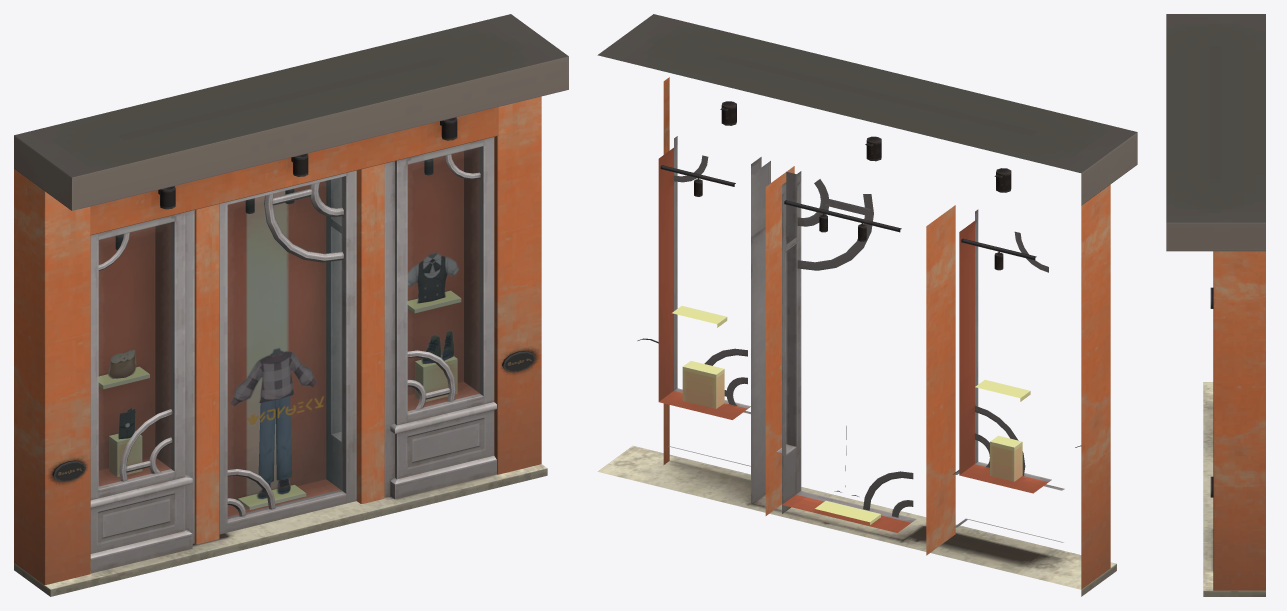
Rendered from t1_b_boutique2_d_wall.glb.
3 renders of one model, left to right at view 1: azimuth 30°, elevation 25°; view 2: azimuth 150°, elevation 25°; view 3: azimuth 270°, elevation 25°, orthographic. The views are drawn at different scales.
Visible parts, largest first — view 1: nomerge_t1_b_boutique2_d_wall_mesh; view 2: nomerge_t1_b_boutique2_d_wall_mesh; view 3: nomerge_t1_b_boutique2_d_wall_mesh.
Boxes of the visible parts, <box> form: nomerge_t1_b_boutique2_d_wall_mesh: <box>14,14,568,596</box>; nomerge_t1_b_boutique2_d_wall_mesh: <box>597,14,1137,596</box>; nomerge_t1_b_boutique2_d_wall_mesh: <box>1166,14,1265,596</box>.
Size of the model in its own units: 5.5 by 4.6 by 1.18.
Materials: 3 (3 with a texture image).
